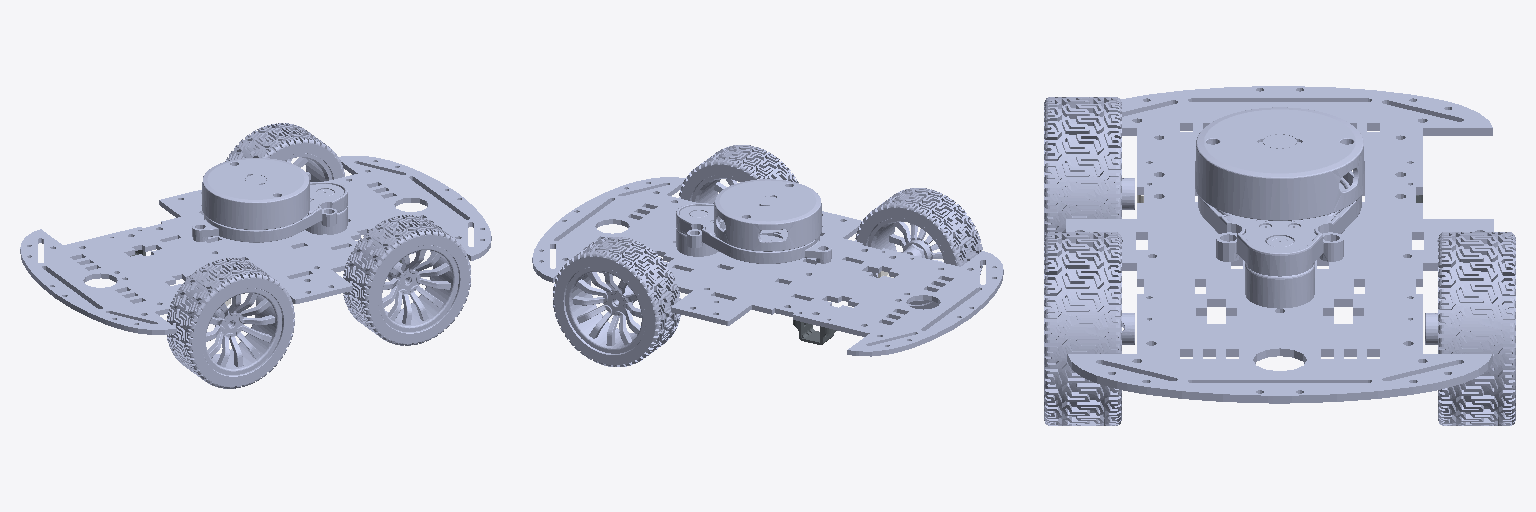
URDF robot description (rover):
<?xml version="1.0" encoding="utf-8"?>
<!-- This URDF was automatically created by SolidWorks to URDF Exporter! Originally created by [author] ([email redacted]) 
     Commit Version: 1.6.0-4-g7f85cfe  Build Version: 1.6.7995.38578
     For more information, please see http://wiki.ros.org/sw_urdf_exporter -->
<robot
  name="rover">
  <link
    name="base_link">
    <inertial>
      <origin
        xyz="2.04381831142401E-09 1.56408869429724E-17 -0.0015"
        rpy="0 0 0" />
      <mass
        value="0.0757356843292425" />
      <inertia
        ixx="9.30542487791855E-05"
        ixy="-1.72973378957802E-10"
        ixz="-1.66079077298931E-21"
        iyy="0.000382138338193282"
        iyz="3.43912726365504E-23"
        izz="0.000475078982714826" />
    </inertial>
    <visual>
      <origin
        xyz="0 0 0"
        rpy="0 0 0" />
      <geometry>
        <mesh
          filename="package://rover/meshes/base_link.STL" />
      </geometry>
      <material
        name="">
        <color
          rgba="0.792156862745098 0.819607843137255 0.933333333333333 1" />
      </material>
    </visual>
    <collision>
      <origin
        xyz="0 0 0"
        rpy="0 0 0" />
      <geometry>
        <mesh
          filename="package://rover/meshes/base_link.STL" />
      </geometry>
    </collision>
  </link>
  <link
    name="LD14P_Link">
    <inertial>
      <origin
        xyz="0.015195 -9.1663E-05 -0.019909"
        rpy="0 0 0" />
      <mass
        value="0.025443" />
      <inertia
        ixx="5.3011E-06"
        ixy="-1.5024E-08"
        ixz="1.2999E-09"
        iyy="8.6464E-06"
        iyz="-1.8484E-08"
        izz="1.3337E-05" />
    </inertial>
    <visual>
      <origin
        xyz="0 0 0"
        rpy="0 0 0" />
      <geometry>
        <mesh
          filename="package://rover/meshes/LD14P_Link.STL" />
      </geometry>
      <material
        name="">
        <color
          rgba="0.79216 0.81961 0.93333 1" />
      </material>
    </visual>
    <collision>
      <origin
        xyz="0 0 0"
        rpy="0 0 0" />
      <geometry>
        <mesh
          filename="package://rover/meshes/LD14P_Link.STL" />
      </geometry>
    </collision>
  </link>
  <joint
    name="LD14P"
    type="fixed">
    <origin
      xyz="-0.00012702 0 0.03845"
      rpy="0 0 0" />
    <parent
      link="base_link" />
    <child
      link="LD14P_Link" />
    <axis
      xyz="0 0 0" />
  </joint>
  <link
    name="Mount_Link_FR">
    <inertial>
      <origin
        xyz="-2.8937E-05 0.0057418 0.00032322"
        rpy="0 0 0" />
      <mass
        value="0.00088951" />
      <inertia
        ixx="2.4974E-08"
        ixy="-3.6241E-11"
        ixz="-9.203E-11"
        iyy="6.2294E-08"
        iyz="1.983E-09"
        izz="5.9248E-08" />
    </inertial>
    <visual>
      <origin
        xyz="0 0 0"
        rpy="0 0 0" />
      <geometry>
        <mesh
          filename="package://rover/meshes/Mount_Link_FR.STL" />
      </geometry>
      <material
        name="">
        <color
          rgba="0.44706 0.47451 0.50196 1" />
      </material>
    </visual>
    <collision>
      <origin
        xyz="0 0 0"
        rpy="0 0 0" />
      <geometry>
        <mesh
          filename="package://rover/meshes/Mount_Link_FR.STL" />
      </geometry>
    </collision>
  </link>
  <joint
    name="Mount_FR"
    type="fixed">
    <origin
      xyz="0.055873 -0.05 -0.0092866"
      rpy="0 0 0" />
    <parent
      link="base_link" />
    <child
      link="Mount_Link_FR" />
    <axis
      xyz="0 0 0" />
  </joint>
  <link
    name="Motor_Link_FR">
    <inertial>
      <origin
        xyz="-6.0305E-05 0.026341 0.00088289"
        rpy="0 0 0" />
      <mass
        value="0.0028388" />
      <inertia
        ixx="5.2064E-08"
        ixy="8.1692E-12"
        ixz="-2.1321E-10"
        iyy="5.1223E-08"
        iyz="9.4713E-12"
        izz="5.0388E-08" />
    </inertial>
    <visual>
      <origin
        xyz="0 0 0"
        rpy="0 0 0" />
      <geometry>
        <mesh
          filename="package://rover/meshes/Motor_Link_FR.STL" />
      </geometry>
      <material
        name="">
        <color
          rgba="0.79608 0.79608 0.79608 1" />
      </material>
    </visual>
    <collision>
      <origin
        xyz="0 0 0"
        rpy="0 0 0" />
      <geometry>
        <mesh
          filename="package://rover/meshes/Motor_Link_FR.STL" />
      </geometry>
    </collision>
  </link>
  <joint
    name="Motor_FR"
    type="fixed">
    <origin
      xyz="7.6341E-05 -0.0092 0.0012869"
      rpy="0 0 0" />
    <parent
      link="Mount_Link_FR" />
    <child
      link="Motor_Link_FR" />
    <axis
      xyz="0 0 0" />
  </joint>
  <link
    name="Wheel_Link_FR">
    <inertial>
      <origin
        xyz="5.7778E-11 -0.01821 -4.7703E-11"
        rpy="0 0 0" />
      <mass
        value="0.035175" />
      <inertia
        ixx="1.5237E-05"
        ixy="2.2092E-14"
        ixz="4.4745E-10"
        iyy="2.5786E-05"
        iyz="-3.1145E-14"
        izz="1.5237E-05" />
    </inertial>
    <visual>
      <origin
        xyz="0 0 0"
        rpy="0 0 0" />
      <geometry>
        <mesh
          filename="package://rover/meshes/Wheel_Link_FR.STL" />
      </geometry>
      <material
        name="">
        <color
          rgba="0.79216 0.81961 0.93333 1" />
      </material>
    </visual>
    <collision>
      <origin
        xyz="0 0 0"
        rpy="0 0 0" />
      <geometry>
        <mesh
          filename="package://rover/meshes/Wheel_Link_FR.STL" />
      </geometry>
    </collision>
  </link>
  <joint
    name="Wheel_FR"
    type="continuous">
    <origin
      xyz="-7.6341E-05 0.0084 0"
      rpy="0 0 0" />
    <parent
      link="Motor_Link_FR" />
    <child
      link="Wheel_Link_FR" />
    <axis
      xyz="0 1 0" />
  </joint>
  <link
    name="Mount_Link_FL">
    <inertial>
      <origin
        xyz="2.89374526260128E-05 -0.00574180489474202 0.000323223503266032"
        rpy="0 0 0" />
      <mass
        value="0.000889511101495515" />
      <inertia
        ixx="2.497444539411E-08"
        ixy="-3.6240651239437E-11"
        ixz="9.2029843628899E-11"
        iyy="6.22940092253975E-08"
        iyz="-1.98296057293581E-09"
        izz="5.92484943284019E-08" />
    </inertial>
    <visual>
      <origin
        xyz="0 0 0"
        rpy="0 0 0" />
      <geometry>
        <mesh
          filename="package://rover/meshes/Mount_Link_FL.STL" />
      </geometry>
      <material
        name="">
        <color
          rgba="0.447058823529412 0.474509803921569 0.501960784313725 1" />
      </material>
    </visual>
    <collision>
      <origin
        xyz="0 0 0"
        rpy="0 0 0" />
      <geometry>
        <mesh
          filename="package://rover/meshes/Mount_Link_FL.STL" />
      </geometry>
    </collision>
  </link>
  <joint
    name="Mount_FL"
    type="fixed">
    <origin
      xyz="0.055873 0.05 -0.0092866"
      rpy="0 0 0" />
    <parent
      link="base_link" />
    <child
      link="Mount_Link_FL" />
    <axis
      xyz="0 0 0" />
  </joint>
  <link
    name="Motor_Link_FL">
    <inertial>
      <origin
        xyz="6.03046968803145E-05 -0.0263412887088174 0.000882893673382839"
        rpy="0 0 0" />
      <mass
        value="0.00283879570267248" />
      <inertia
        ixx="5.20644968727663E-08"
        ixy="8.16932903691748E-12"
        ixz="2.13211914887738E-10"
        iyy="5.12226271656975E-08"
        iyz="-9.4713293078595E-12"
        izz="5.03883033851809E-08" />
    </inertial>
    <visual>
      <origin
        xyz="0 0 0"
        rpy="0 0 0" />
      <geometry>
        <mesh
          filename="package://rover/meshes/Motor_Link_FL.STL" />
      </geometry>
      <material
        name="">
        <color
          rgba="0.796078431372549 0.796078431372549 0.796078431372549 1" />
      </material>
    </visual>
    <collision>
      <origin
        xyz="0 0 0"
        rpy="0 0 0" />
      <geometry>
        <mesh
          filename="package://rover/meshes/Motor_Link_FL.STL" />
      </geometry>
    </collision>
  </link>
  <joint
    name="Motor_FL"
    type="fixed">
    <origin
      xyz="-7.63405011604268E-05 0.00919999999999997 0.00128688689012445"
      rpy="0 0 0" />
    <parent
      link="Mount_Link_FL" />
    <child
      link="Motor_Link_FL" />
    <axis
      xyz="0 0 0" />
  </joint>
  <link
    name="Wheel_Link_FL">
    <inertial>
      <origin
        xyz="-7.45820558090138E-11 0.0182100813888 7.17062607208385E-12"
        rpy="0 0 0" />
      <mass
        value="0.035174698582227" />
      <inertia
        ixx="1.52366268256632E-05"
        ixy="3.76506163752978E-14"
        ixz="-2.1550742782768E-10"
        iyy="2.57857822002641E-05"
        iyz="6.3766971496481E-15"
        izz="1.52375222771183E-05" />
    </inertial>
    <visual>
      <origin
        xyz="0 0 0"
        rpy="0 0 0" />
      <geometry>
        <mesh
          filename="package://rover/meshes/Wheel_Link_FL.STL" />
      </geometry>
      <material
        name="">
        <color
          rgba="0.792156862745098 0.819607843137255 0.933333333333333 1" />
      </material>
    </visual>
    <collision>
      <origin
        xyz="0 0 0"
        rpy="0 0 0" />
      <geometry>
        <mesh
          filename="package://rover/meshes/Wheel_Link_FL.STL" />
      </geometry>
    </collision>
  </link>
  <joint
    name="Wheel_FL"
    type="continuous">
    <origin
      xyz="7.63405011604476E-05 -0.00840000000000002 0"
      rpy="0 0 0" />
    <parent
      link="Motor_Link_FL" />
    <child
      link="Wheel_Link_FL" />
    <axis
      xyz="0 1 0" />
  </joint>
  <link
    name="Mount_Link_BL">
    <inertial>
      <origin
        xyz="2.89374526260197E-05 -0.00574180489474202 0.000323223503266031"
        rpy="0 0 0" />
      <mass
        value="0.000889511101495515" />
      <inertia
        ixx="2.497444539411E-08"
        ixy="-3.62406512394373E-11"
        ixz="9.20298436289031E-11"
        iyy="6.22940092253975E-08"
        iyz="-1.98296057293581E-09"
        izz="5.92484943284018E-08" />
    </inertial>
    <visual>
      <origin
        xyz="0 0 0"
        rpy="0 0 0" />
      <geometry>
        <mesh
          filename="package://rover/meshes/Mount_Link_BL.STL" />
      </geometry>
      <material
        name="">
        <color
          rgba="0.447058823529412 0.474509803921569 0.501960784313725 1" />
      </material>
    </visual>
    <collision>
      <origin
        xyz="0 0 0"
        rpy="0 0 0" />
      <geometry>
        <mesh
          filename="package://rover/meshes/Mount_Link_BL.STL" />
      </geometry>
    </collision>
  </link>
  <joint
    name="Mount_BL"
    type="fixed">
    <origin
      xyz="-0.056127 0.05 -0.0092866"
      rpy="0 0 0" />
    <parent
      link="base_link" />
    <child
      link="Mount_Link_BL" />
    <axis
      xyz="0 0 0" />
  </joint>
  <link
    name="Motor_Link_BL">
    <inertial>
      <origin
        xyz="-6.030459023839E-05 -0.0263412887982114 -0.000882893768063883"
        rpy="0 0 0" />
      <mass
        value="0.00283879567406719" />
      <inertia
        ixx="5.20644961834455E-08"
        ixy="-8.16930221775181E-12"
        ixz="2.13211883274157E-10"
        iyy="5.12226271617704E-08"
        iyz="9.4712344391227E-12"
        izz="5.03883026605782E-08" />
    </inertial>
    <visual>
      <origin
        xyz="0 0 0"
        rpy="0 0 0" />
      <geometry>
        <mesh
          filename="package://rover/meshes/Motor_Link_BL.STL" />
      </geometry>
      <material
        name="">
        <color
          rgba="0.796078431372549 0.796078431372549 0.796078431372549 1" />
      </material>
    </visual>
    <collision>
      <origin
        xyz="0 0 0"
        rpy="0 0 0" />
      <geometry>
        <mesh
          filename="package://rover/meshes/Motor_Link_BL.STL" />
      </geometry>
    </collision>
  </link>
  <joint
    name="Motor_BL"
    type="fixed">
    <origin
      xyz="7.63405011606419E-05 0.00919999999999999 0.0012863796207111"
      rpy="0 0 0" />
    <parent
      link="Mount_Link_BL" />
    <child
      link="Motor_Link_BL" />
    <axis
      xyz="0 0 0" />
  </joint>
  <link
    name="Wheel_Link_BL">
    <inertial>
      <origin
        xyz="4.3705178365272E-12 0.0182100813888 7.47986212898399E-11"
        rpy="0 0 0" />
      <mass
        value="0.0351746985822267" />
      <inertia
        ixx="1.52375048767784E-05"
        ixy="7.78410523677623E-15"
        ixz="2.48438778432416E-10"
        iyy="2.57857822002643E-05"
        iyz="-3.73823276527771E-14"
        izz="1.52366442259736E-05" />
    </inertial>
    <visual>
      <origin
        xyz="0 0 0"
        rpy="0 0 0" />
      <geometry>
        <mesh
          filename="package://rover/textures/Wheel_Link_BL.dae" />
      </geometry>
    </visual>
    <collision>
      <origin
        xyz="0 0 0"
        rpy="0 0 0" />
      <geometry>
        <mesh
          filename="package://rover/meshes/Wheel_Link_BL.STL" />
      </geometry>
    </collision>
  </link>
  <joint
    name="Wheel_BL"
    type="continuous">
    <origin
      xyz="-7.63405011606141E-05 -0.00840000000000001 0"
      rpy="0 0 0" />
    <parent
      link="Motor_Link_BL" />
    <child
      link="Wheel_Link_BL" />
    <axis
      xyz="0 1 0" />
  </joint>
  <link
    name="Mount_Link_BR">
    <inertial>
      <origin
        xyz="0 0 0"
        rpy="0 0 0" />
      <mass
        value="0" />
      <inertia
        ixx="0"
        ixy="0"
        ixz="0"
        iyy="0"
        iyz="0"
        izz="0" />
    </inertial>
    <visual>
      <origin
        xyz="0 0 0"
        rpy="0 0 0" />
      <geometry>
        <mesh
          filename="package://rover/meshes/Mount_Link_BR.STL" />
      </geometry>
      <material
        name="">
        <color
          rgba="1 1 1 1" />
      </material>
    </visual>
    <collision>
      <origin
        xyz="0 0 0"
        rpy="0 0 0" />
      <geometry>
        <mesh
          filename="package://rover/meshes/Mount_Link_BR.STL" />
      </geometry>
    </collision>
  </link>
  <joint
    name="Mount_BR"
    type="fixed">
    <origin
      xyz="-0.0561270249631181 -0.0499999999999994 -0.00928663325541777"
      rpy="0 0 0" />
    <parent
      link="base_link" />
    <child
      link="Mount_Link_BR" />
    <axis
      xyz="0 0 0" />
  </joint>
  <link
    name="Motor_Link_BR">
    <inertial>
      <origin
        xyz="6.03046153492687E-05 0.0263412889891294 -0.00088289376174546"
        rpy="0 0 0" />
      <mass
        value="0.0028387955894548" />
      <inertia
        ixx="5.20644945289959E-08"
        ixy="-8.16931021094843E-12"
        ixz="-2.13211916263588E-10"
        iyy="5.122262714054E-08"
        iyz="-9.47133094088897E-12"
        izz="5.03883010411983E-08" />
    </inertial>
    <visual>
      <origin
        xyz="0 0 0"
        rpy="0 0 0" />
      <geometry>
        <mesh
          filename="package://rover/meshes/Motor_Link_BR.STL" />
      </geometry>
      <material
        name="">
        <color
          rgba="0.796078431372549 0.796078431372549 0.796078431372549 1" />
      </material>
    </visual>
    <collision>
      <origin
        xyz="0 0 0"
        rpy="0 0 0" />
      <geometry>
        <mesh
          filename="package://rover/meshes/Motor_Link_BR.STL" />
      </geometry>
    </collision>
  </link>
  <joint
    name="Motor_BR"
    type="fixed">
    <origin
      xyz="-7.63405011606072E-05 -0.0092 0.0012863796207111"
      rpy="0 0 0" />
    <parent
      link="Mount_Link_BR" />
    <child
      link="Motor_Link_BR" />
    <axis
      xyz="0 0 0" />
  </joint>
  <link
    name="Wheel_Link_BR">
    <inertial>
      <origin
        xyz="6.12851297487893E-11 -0.0182100813888 4.31050247579057E-11"
        rpy="0 0 0" />
      <mass
        value="0.0351746985822271" />
      <inertia
        ixx="1.52366604616097E-05"
        ixy="3.58796086606825E-14"
        ixz="-2.74647742451226E-10"
        iyy="2.57857822002649E-05"
        iyz="1.30708201068383E-14"
        izz="1.5237488641291E-05" />
    </inertial>
    <visual>
      <origin
        xyz="0 0 0"
        rpy="0 0 0" />
      <geometry>
        <mesh
          filename="package://rover/meshes/Wheel_Link_BR.STL" />
      </geometry>
      <material
        name="">
        <color
          rgba="0.792156862745098 0.819607843137255 0.933333333333333 1" />
      </material>
    </visual>
    <collision>
      <origin
        xyz="0 0 0"
        rpy="0 0 0" />
      <geometry>
        <mesh
          filename="package://rover/meshes/Wheel_Link_BR.STL" />
      </geometry>
    </collision>
  </link>
  <joint
    name="Wheel_BR"
    type="continuous">
    <origin
      xyz="7.63405011606072E-05 0.0084 0"
      rpy="0 0 0" />
    <parent
      link="Motor_Link_BR" />
    <child
      link="Wheel_Link_BR" />
    <axis
      xyz="0 1 0" />
  </joint>
  
  <gazebo reference="LD14P_Link">
    <sensor type="ray" name="ld14p_laser">
      <pose>0 0 0 0 0 0</pose>
      <visualize>true</visualize>
      <update_rate>6</update_rate>
      <ray>
        <scan>
          <horizontal>
            <samples>360</samples>
            <resolution>1</resolution>
            <min_angle>0</min_angle>
            <max_angle>6.28319</max_angle>
          </horizontal>
        </scan>
        <range>
          <min>0.1</min>
          <max>8.0</max>
          <resolution>0.01</resolution>
        </range>
        <noise>
          <type>gaussian</type>
          <mean>0.0</mean>
          <stddev>0.05</stddev>
        </noise>
      </ray>
      <plugin name="gazebo_ros_laser" filename="libgazebo_ros_laser.so">
        <topicName>/scan</topicName>
        <frameName>LD14P_Link</frameName>
        <min_intensity>0</min_intensity>
        <max_intensity>4096</max_intensity>
      </plugin>
    </sensor>
  </gazebo>

  <gazebo reference="base_link">
    <gravity>true</gravity>
    <sensor name="imu_sensor" type="imu">
      <plugin filename="libgazebo_ros_imu_sensor.so" name="imu_plugin">
        <topicName>imu</topicName>
        <bodyName>base_link</bodyName>
        <updateRateHZ>100.0</updateRateHZ>
        <gaussianNoise>0.1</gaussianNoise>
        <xyzOffset>0 0 0</xyzOffset>
        <rpyOffset>0 0 0</rpyOffset>
        <frameName>base_link</frameName>
        <initialOrientationAsReference>false</initialOrientationAsReference>
      </plugin>
      <pose>0 0 0 0 0 0</pose>
    </sensor>
  </gazebo>

  <gazebo>
    <plugin name="skid_steer_drive_controller" filename="libgazebo_ros_skid_steer_drive.so">
      <updateRate>100.0</updateRate>
      <robotNamespace>/</robotNamespace>
      <leftFrontJoint>Wheel_FL</leftFrontJoint>
      <rightFrontJoint>Wheel_FR</rightFrontJoint>
      <leftRearJoint>Wheel_BL</leftRearJoint>
      <rightRearJoint>Wheel_BR</rightRearJoint>
      <wheelSeparation>0.138</wheelSeparation>
      <wheelDiameter>0.065</wheelDiameter>
      <robotBaseFrame>base_link</robotBaseFrame>
      <torque>20</torque>
      <topicName>cmd_vel</topicName>
      <broadcastTF>false</broadcastTF>
    </plugin>
  </gazebo>
</robot>

--- Render facts (derived) ---
Views: 3 orthographic renders of the robot side by side, from view 1: azimuth 30°, elevation 25°; view 2: azimuth 150°, elevation 25°; view 3: azimuth 270°, elevation 25°.
Robot: rover — 14 links, 13 joints (4 continuous, 9 fixed); root link base_link; default pose: every joint at zero.
Links seen in each view (by area): view 1: base_link, Wheel_Link_BR, Wheel_Link_FR, LD14P_Link, Wheel_Link_FL; view 2: base_link, Wheel_Link_FL, LD14P_Link, Wheel_Link_BR, Wheel_Link_FR, Mount_Link_BL; view 3: base_link, LD14P_Link, Wheel_Link_FL, Wheel_Link_FR, Wheel_Link_BR.
Link boxes in pixels (x1,y1,x2,y2): base_link: (20, 156, 491, 334); Wheel_Link_BR: (167, 258, 294, 388); Wheel_Link_FR: (343, 215, 470, 345); LD14P_Link: (192, 158, 347, 242); Wheel_Link_FL: (225, 123, 344, 181); base_link: (532, 177, 1003, 356); Wheel_Link_FL: (553, 237, 680, 366); LD14P_Link: (676, 179, 831, 263); Wheel_Link_BR: (855, 188, 982, 309); Wheel_Link_FR: (679, 145, 798, 203); Mount_Link_BL: (793, 320, 836, 344); base_link: (1066, 86, 1493, 403); LD14P_Link: (1195, 107, 1364, 308); Wheel_Link_FL: (1425, 232, 1515, 425); Wheel_Link_FR: (1044, 232, 1134, 425); Wheel_Link_BR: (1044, 97, 1134, 237).
Bounding box of the posed robot: 0.257 × 0.1651 × 0.0805 m (x, y, z).
8 mesh visuals loaded from 14 distinct referenced files (8 binary STL); not drawn: 6 (reference not matched to a file when rendering).
